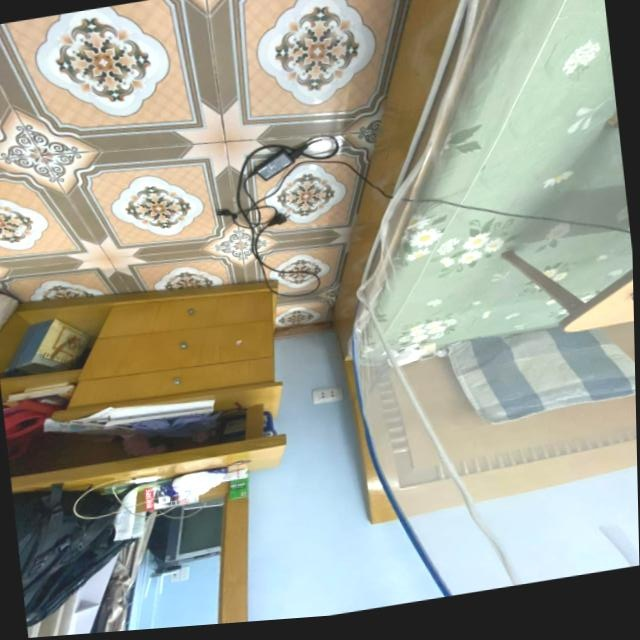outlet: (311, 385, 342, 407)
